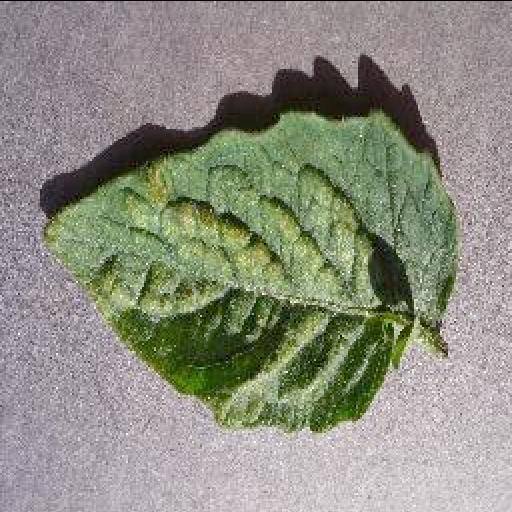disease_tomato: (44, 108, 460, 434)
